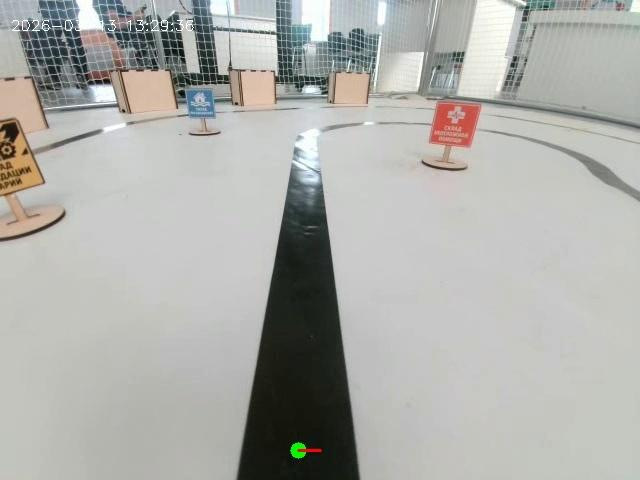flood: (179, 76, 216, 154)
industrial: (0, 107, 63, 231)
medical: (422, 91, 486, 187)
